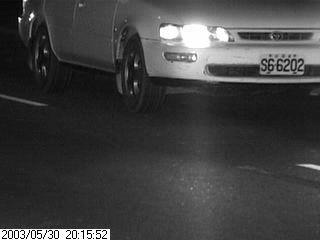plate: (259, 51, 307, 77)
